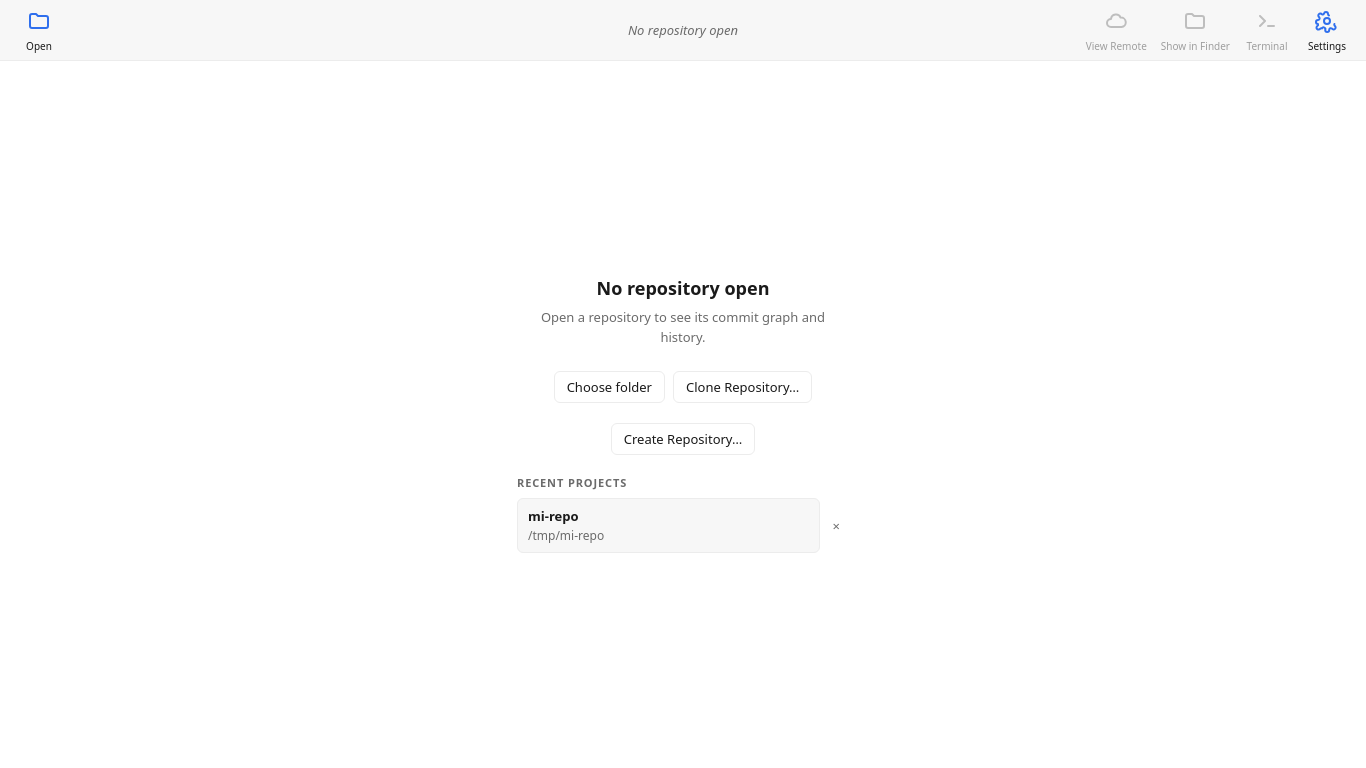
it: App › searches the history by message and clears back to the full log
Click the button "Choose folder" at coordinates (609, 387), box x1=554 y1=371 x2=665 y2=403
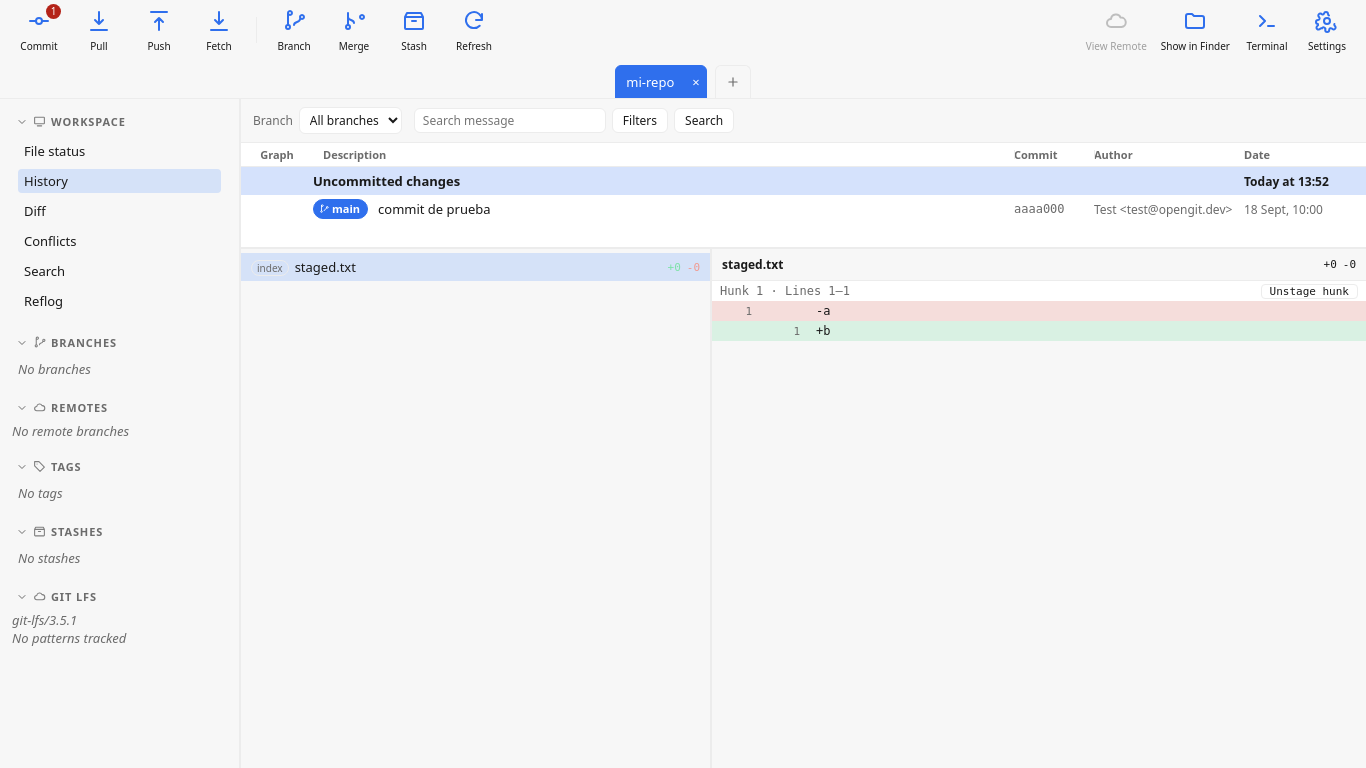
Type "prueba" into the search field labelled "Search message" at coordinates (510, 120), box x1=414 y1=108 x2=606 y2=133
Then press Enter
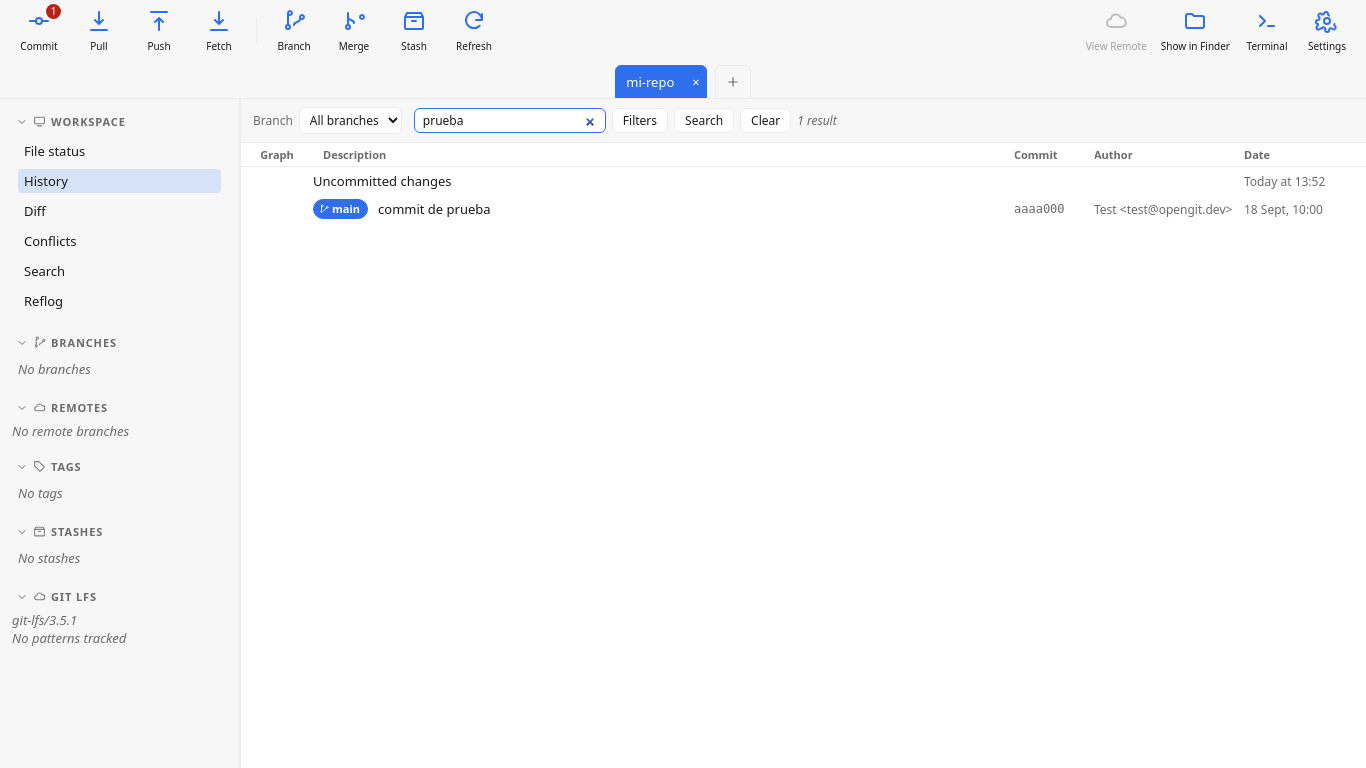
Expected: the text "1 result" is shown, x1=797 y1=112 x2=837 y2=129
Click the button "Clear" at coordinates (766, 120), box x1=740 y1=108 x2=791 y2=133
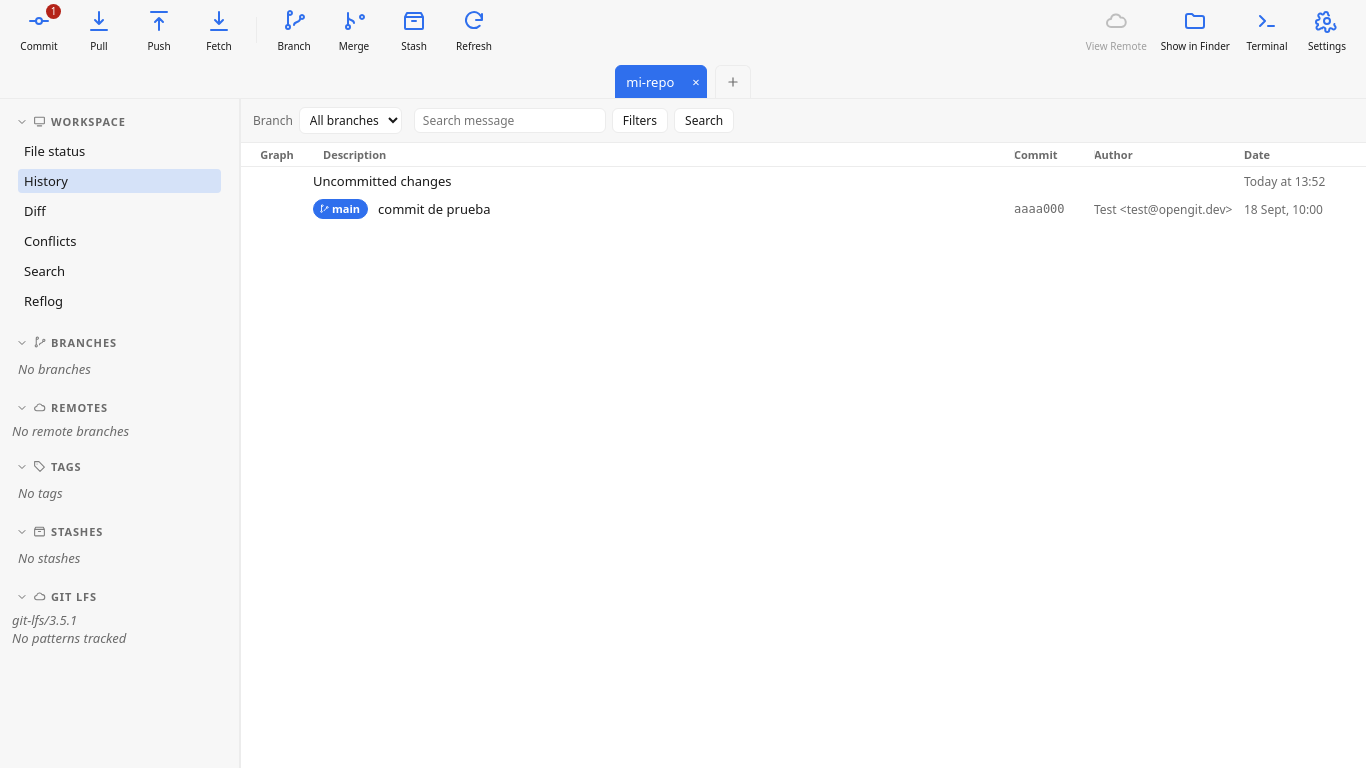
Expected: the text "1 result" is gone
